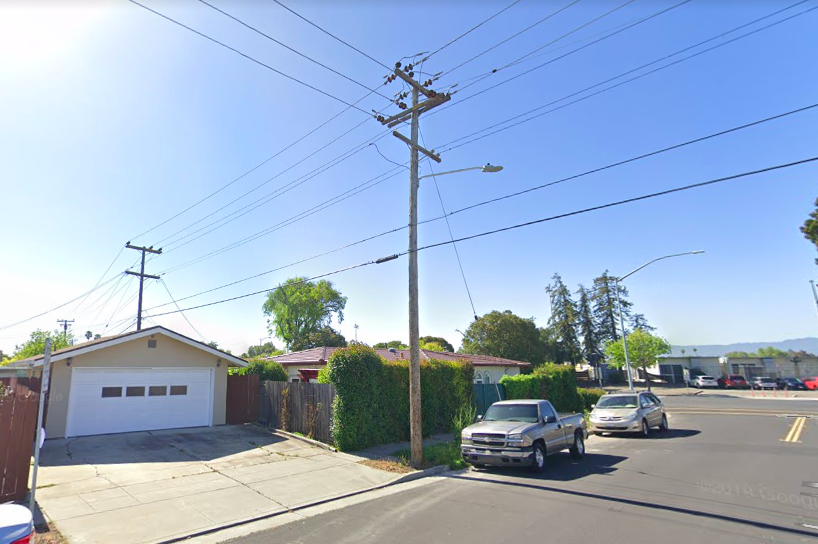utility_pole: (366, 44, 460, 178), (117, 234, 166, 295)
